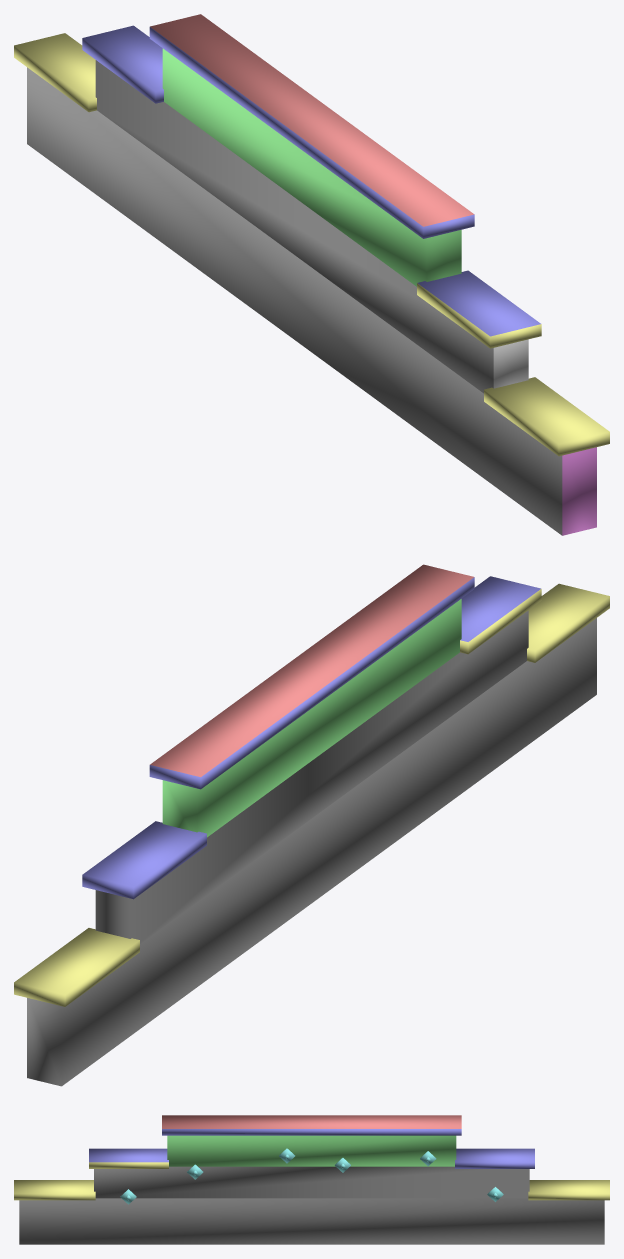
The model's file is SM_shopTop_01.gltf.
3 renders of one model, top to bottom at view 1: azimuth 30°, elevation 25°; view 2: azimuth 150°, elevation 25°; view 3: azimuth 270°, elevation 25°, orthographic. The views are drawn at different scales.
Parts seen in each view (by area): view 1: SM_shopTop_01; view 2: SM_shopTop_01; view 3: SM_shopTop_01.
Part boxes in pixels (left/top/right/bottom): SM_shopTop_01: left=14, top=14, right=609, bottom=535; SM_shopTop_01: left=14, top=564, right=609, bottom=1086; SM_shopTop_01: left=14, top=1115, right=609, bottom=1244.
Bounding box in the file's own units: 0.4414 × 1.77 × 8.14.
